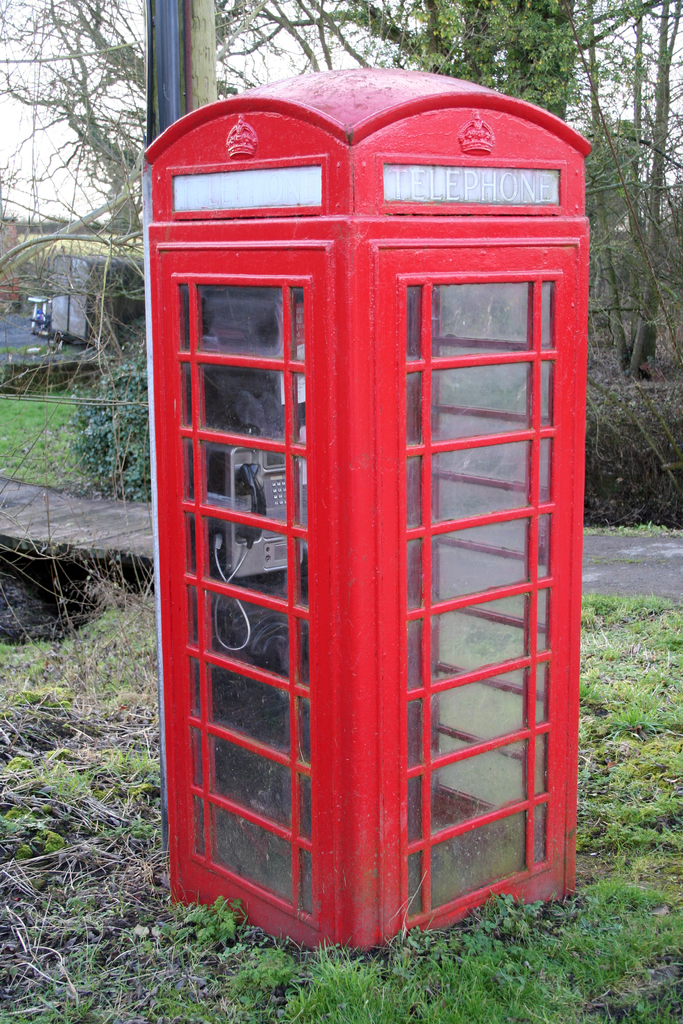Tree: (0, 0, 683, 382)
